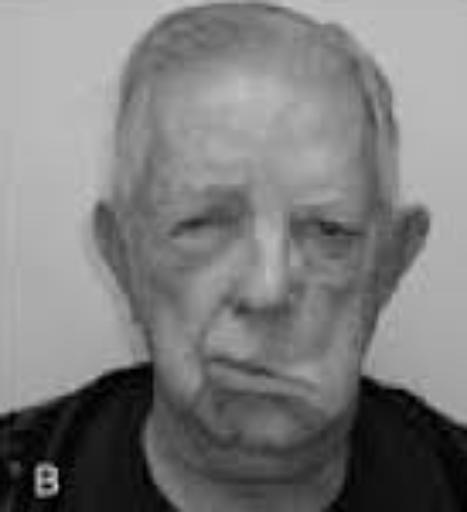left_eye: (298, 214, 363, 244)
left_lip_corner: (277, 368, 315, 388)
right_eye: (166, 214, 235, 248)
right_lip_corner: (203, 352, 231, 370)
